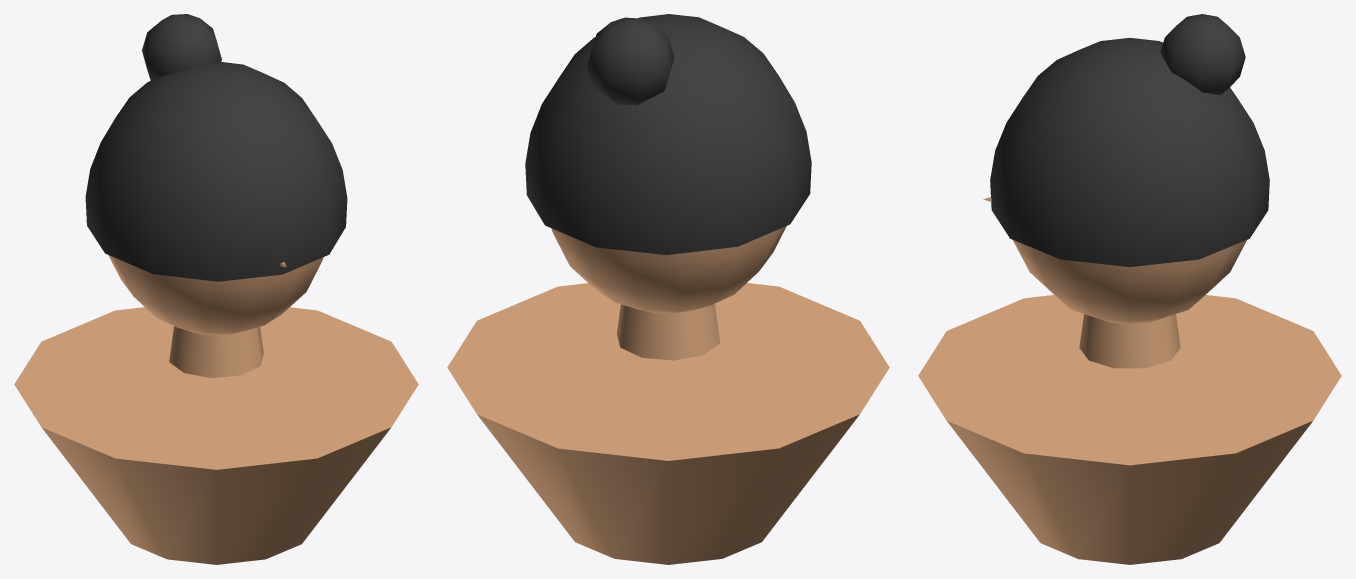
File: portrait01w_001.glb
3 renders of one model, left to right at view 1: azimuth 30°, elevation 25°; view 2: azimuth 150°, elevation 25°; view 3: azimuth 270°, elevation 25°, orthographic. The views are drawn at different scales.
Size of the model in its own units: 1.76 by 2.3 by 1.76.
